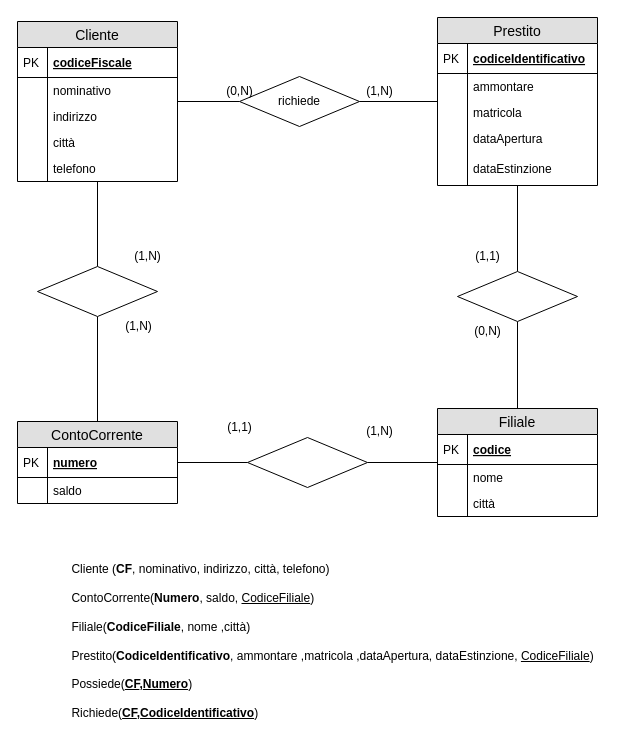
This 620x739 diagram has some shape labels left out. The centre of each missing label's shape, as x and y in pixels:
concede: pixel 517 296
gestisce: pixel 307 462
possiede: pixel 97 291
